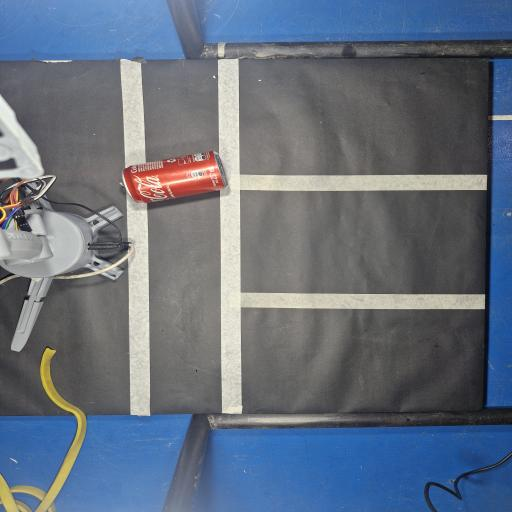lata: (122, 151, 227, 203)
